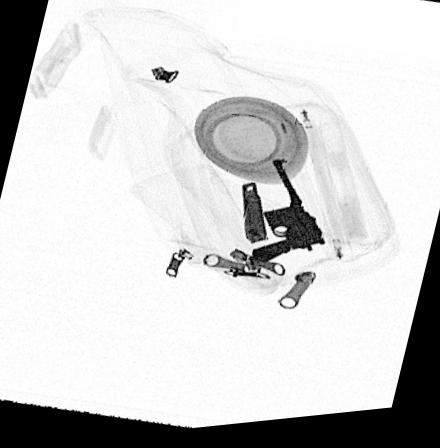Gun: (252, 164, 326, 267)
